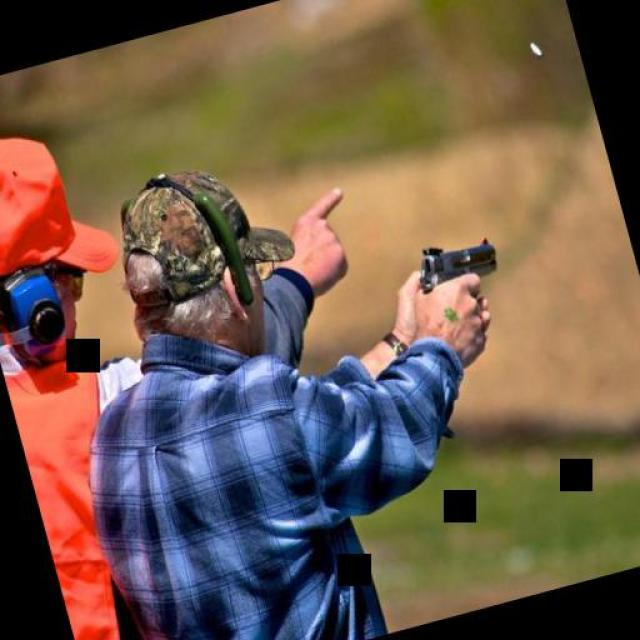gun: (405, 216, 513, 318)
